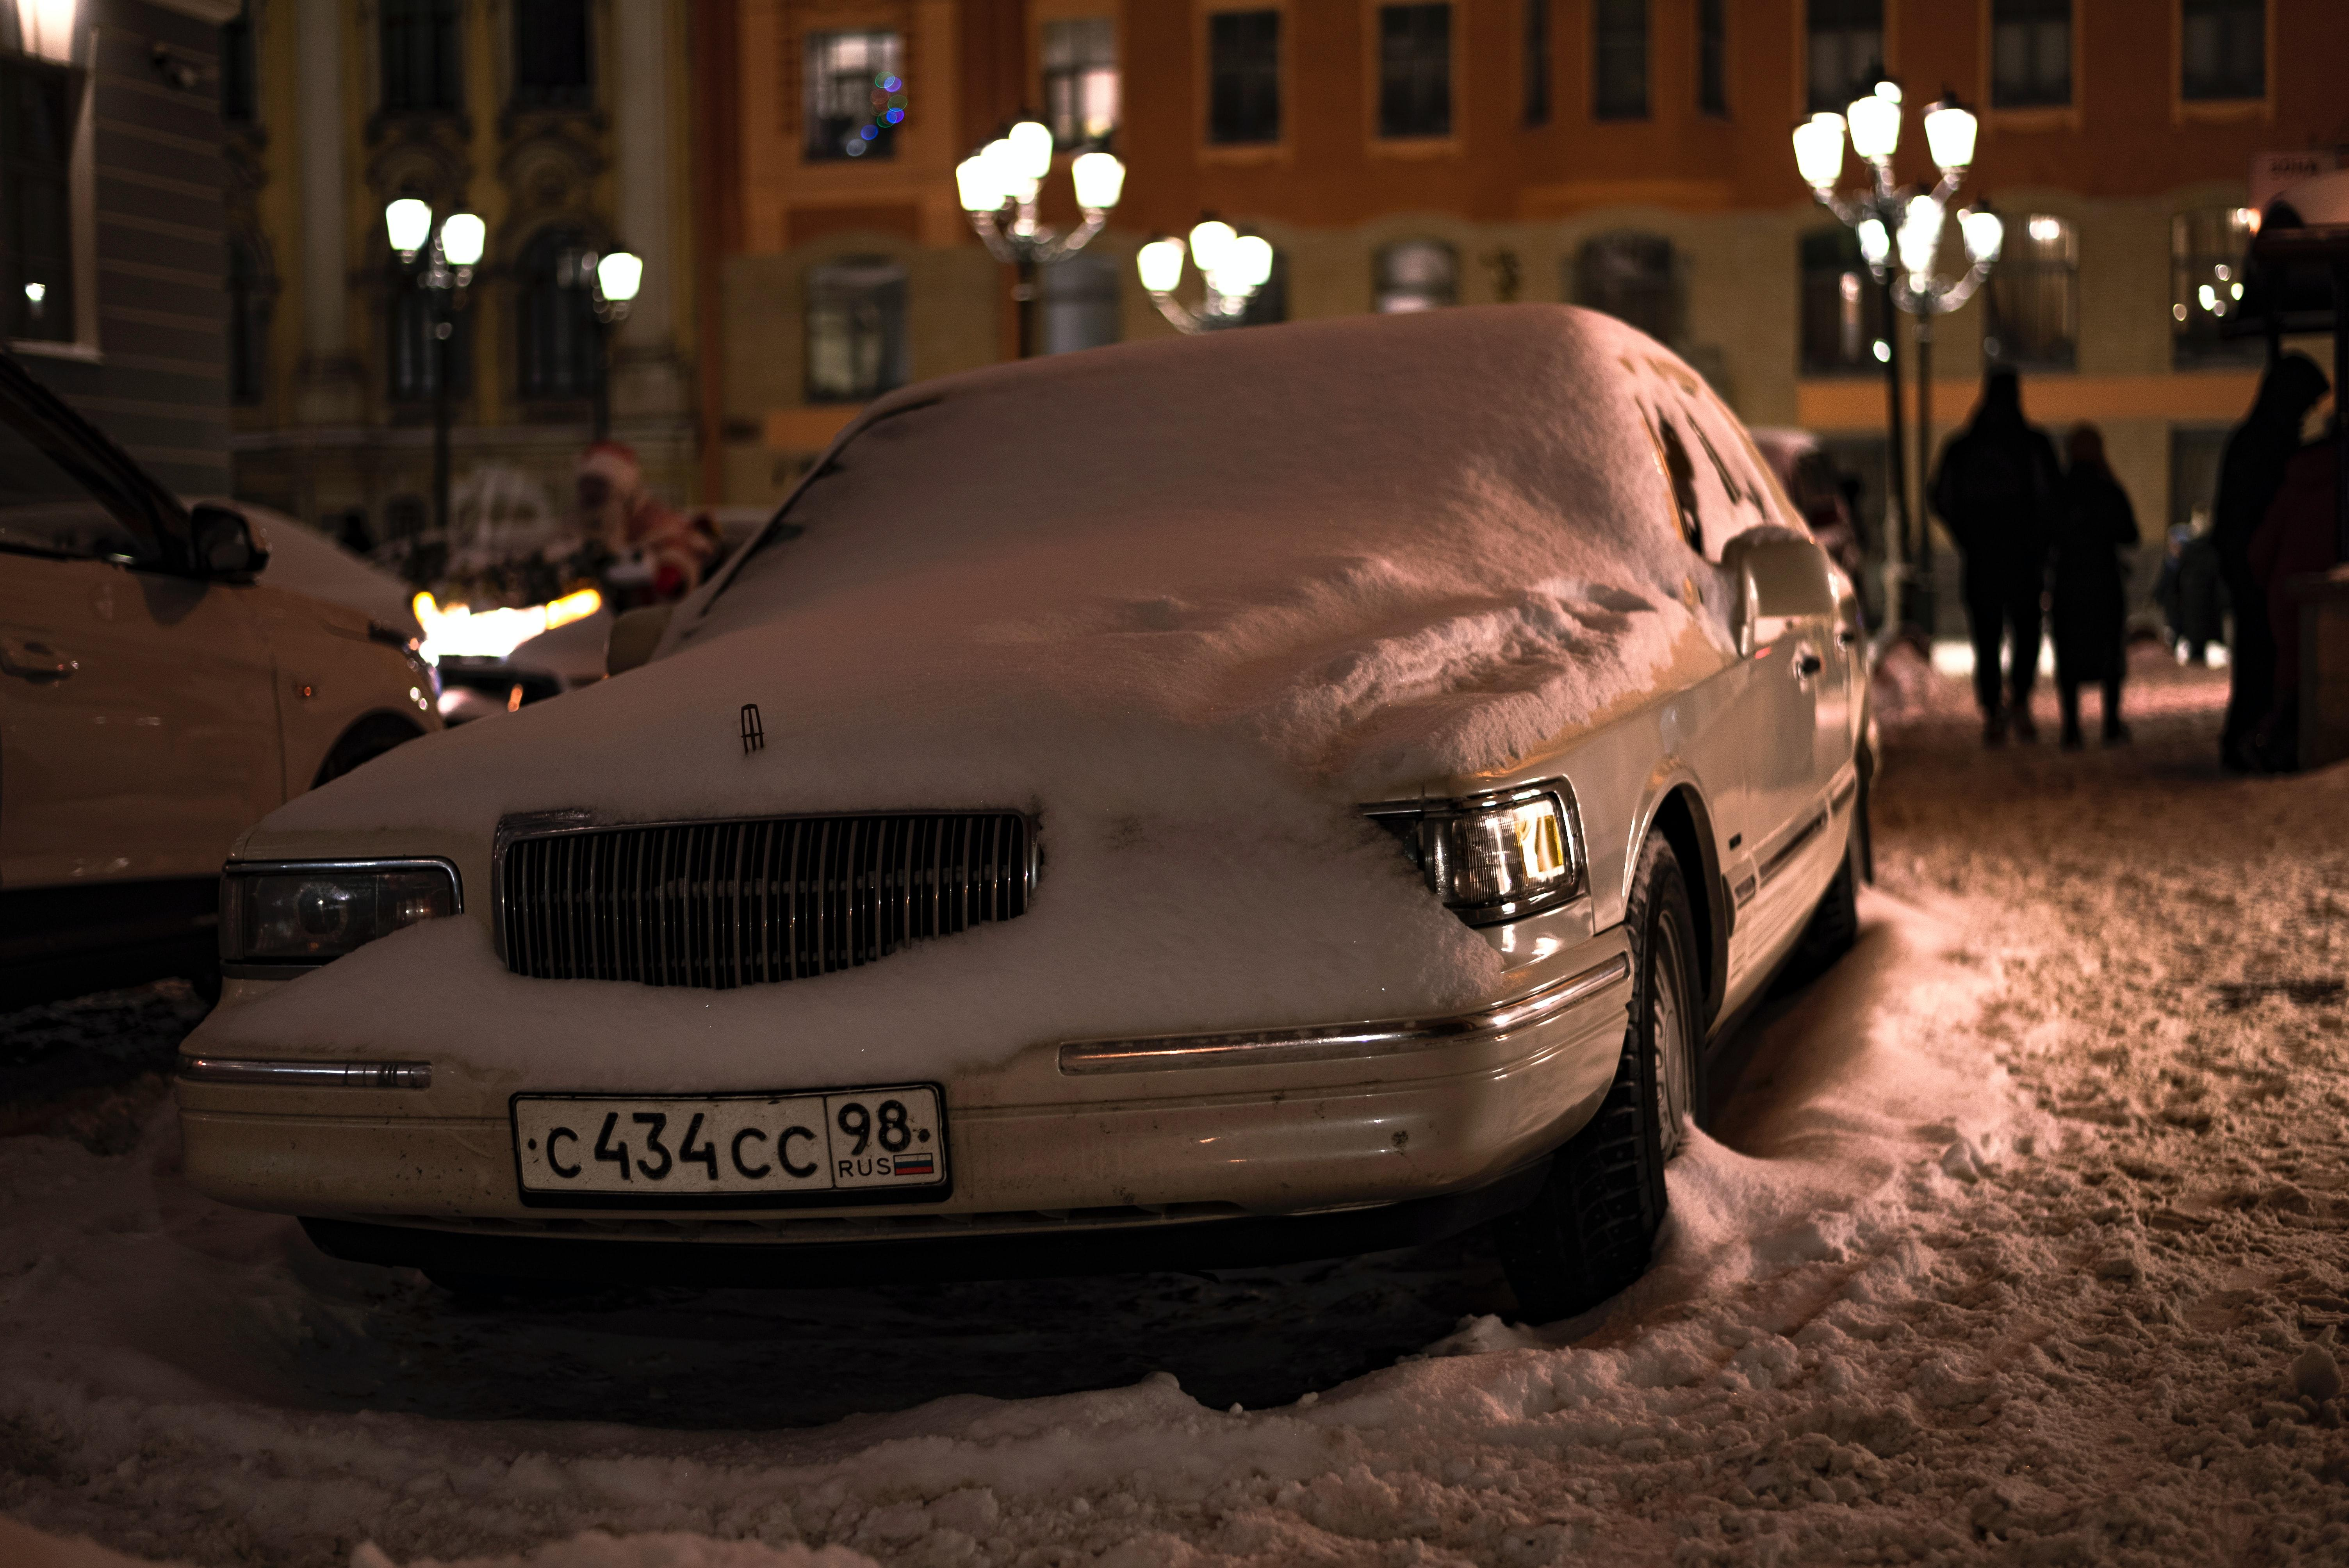lincoln: (723, 681, 784, 782)
